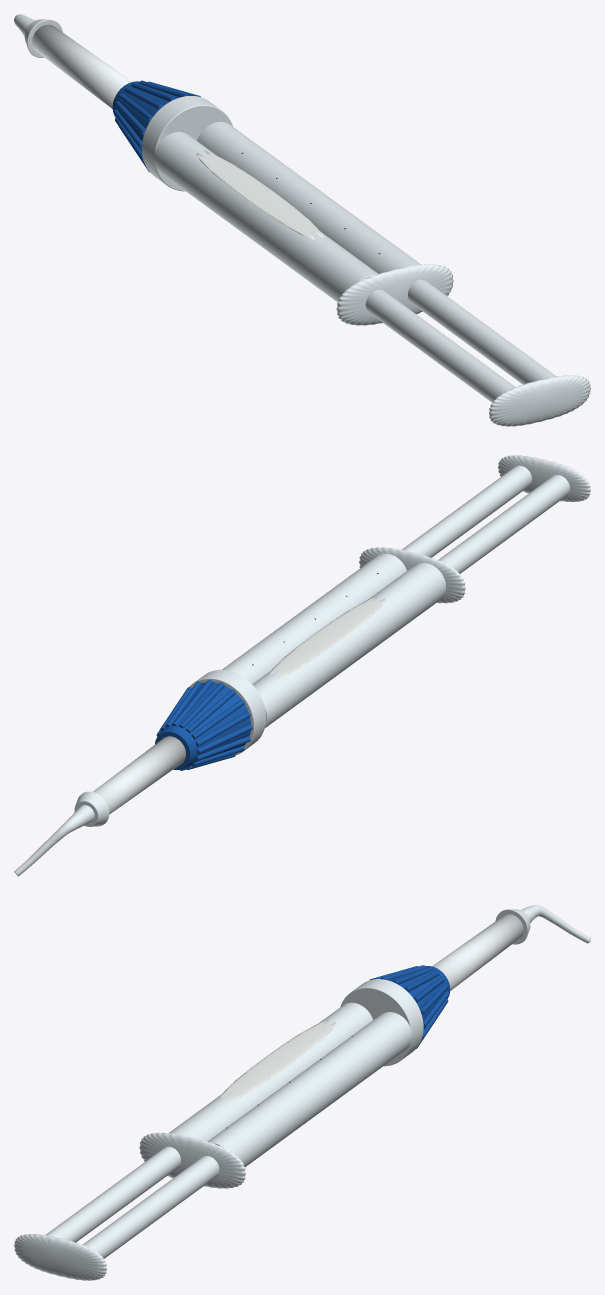
File: syringe.glb
3 views of the same model, one above another, from view 1: azimuth 30°, elevation 25°; view 2: azimuth 150°, elevation 25°; view 3: azimuth 330°, elevation 25° (orthographic). The views are drawn at different scales.
Parts seen in each view (by area): view 1: Cone.022, Cone.023, Cone.031, Cone.033, Joined clear thumb plate, Clear mixer housing, Clear finger flange, Cone.021, White label half, Cone.002; view 2: Cone.022, Cone.023, Cone.031, Cone.033, Clear mixer housing, Cone.002, White label half, Joined clear thumb plate, Cone.021, Clear finger flange, Angled fine delivery end, Cone; view 3: Cone.023, Cone.022, Cone.033, Cone.031, Joined clear thumb plate, Clear finger flange, Clear mixer housing, Cone.021, White label half, Cone.002, Angled fine delivery end.
Boxes of the visible parts, bbox=[...] form: Cone.022: bbox=[154, 132, 378, 302]; Cone.023: bbox=[197, 121, 421, 273]; Cone.031: bbox=[365, 290, 515, 402]; Cone.033: bbox=[408, 279, 556, 384]; Joined clear thumb plate: bbox=[489, 375, 590, 426]; Clear mixer housing: bbox=[32, 24, 132, 108]; Clear finger flange: bbox=[336, 264, 453, 325]; Cone.021: bbox=[142, 96, 232, 191]; White label half: bbox=[196, 151, 323, 239]; Cone.002: bbox=[112, 81, 179, 151]; Cone.022: bbox=[252, 562, 446, 727]; Cone.023: bbox=[222, 553, 406, 684]; Cone.031: bbox=[438, 475, 569, 573]; Cone.033: bbox=[402, 465, 532, 557]; Clear mixer housing: bbox=[93, 736, 185, 814]; Cone.002: bbox=[155, 682, 250, 769]; White label half: bbox=[269, 597, 384, 677]; Joined clear thumb plate: bbox=[498, 455, 590, 502]; Cone.021: bbox=[189, 669, 266, 755]; Clear finger flange: bbox=[359, 547, 465, 603]; Angled fine delivery end: bbox=[14, 805, 94, 876]; Cone: bbox=[74, 791, 109, 826]; Cone.023: bbox=[207, 1012, 412, 1167]; Cone.022: bbox=[169, 1002, 372, 1141]; Cone.033: bbox=[82, 1156, 219, 1258]; Cone.031: bbox=[45, 1146, 180, 1242]; Joined clear thumb plate: bbox=[14, 1234, 106, 1280]; Clear finger flange: bbox=[139, 1132, 245, 1188]; Clear mixer housing: bbox=[432, 914, 523, 990]; Cone.021: bbox=[340, 979, 423, 1066]; White label half: bbox=[220, 1020, 335, 1100]; Cone.002: bbox=[389, 966, 450, 1029]; Angled fine delivery end: bbox=[521, 905, 590, 943].
Size of the model in its own units: 17.75 by 12.74 by 144.
